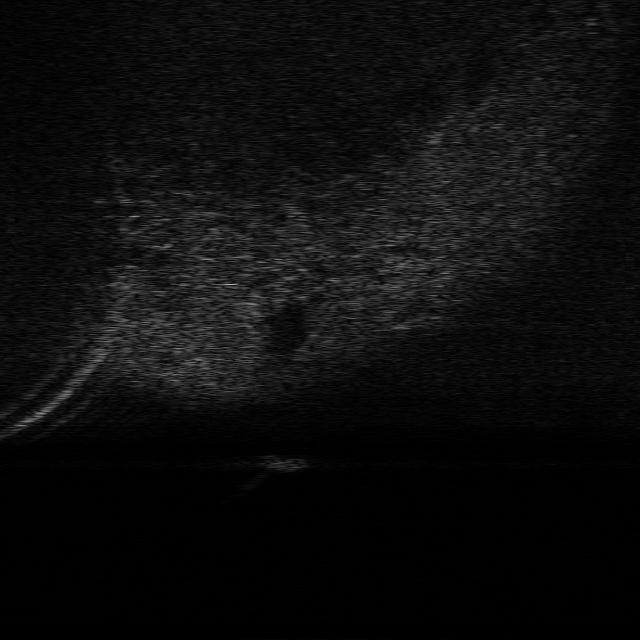cube: (260, 454, 308, 474)
